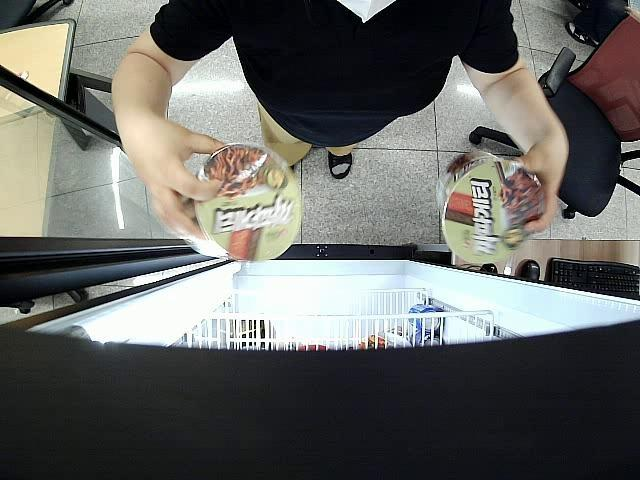03_chapagetti_L: (178, 144, 303, 261), (438, 150, 544, 265)
